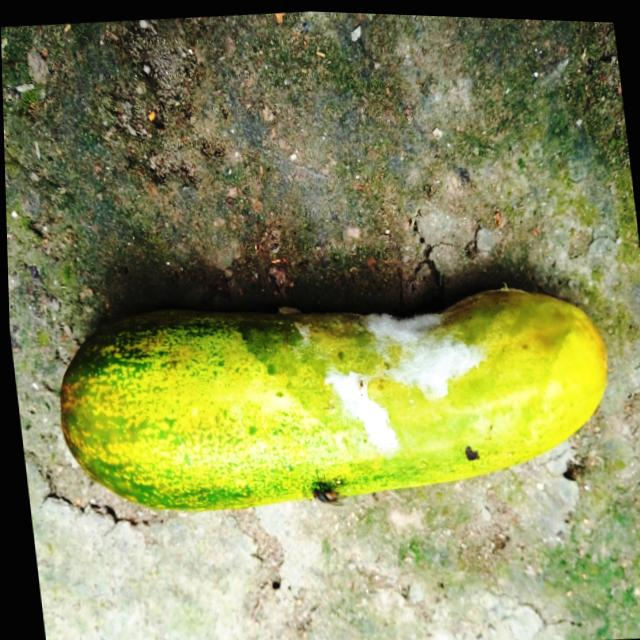Pythium-Fruit-Rot: (314, 293, 492, 464)
